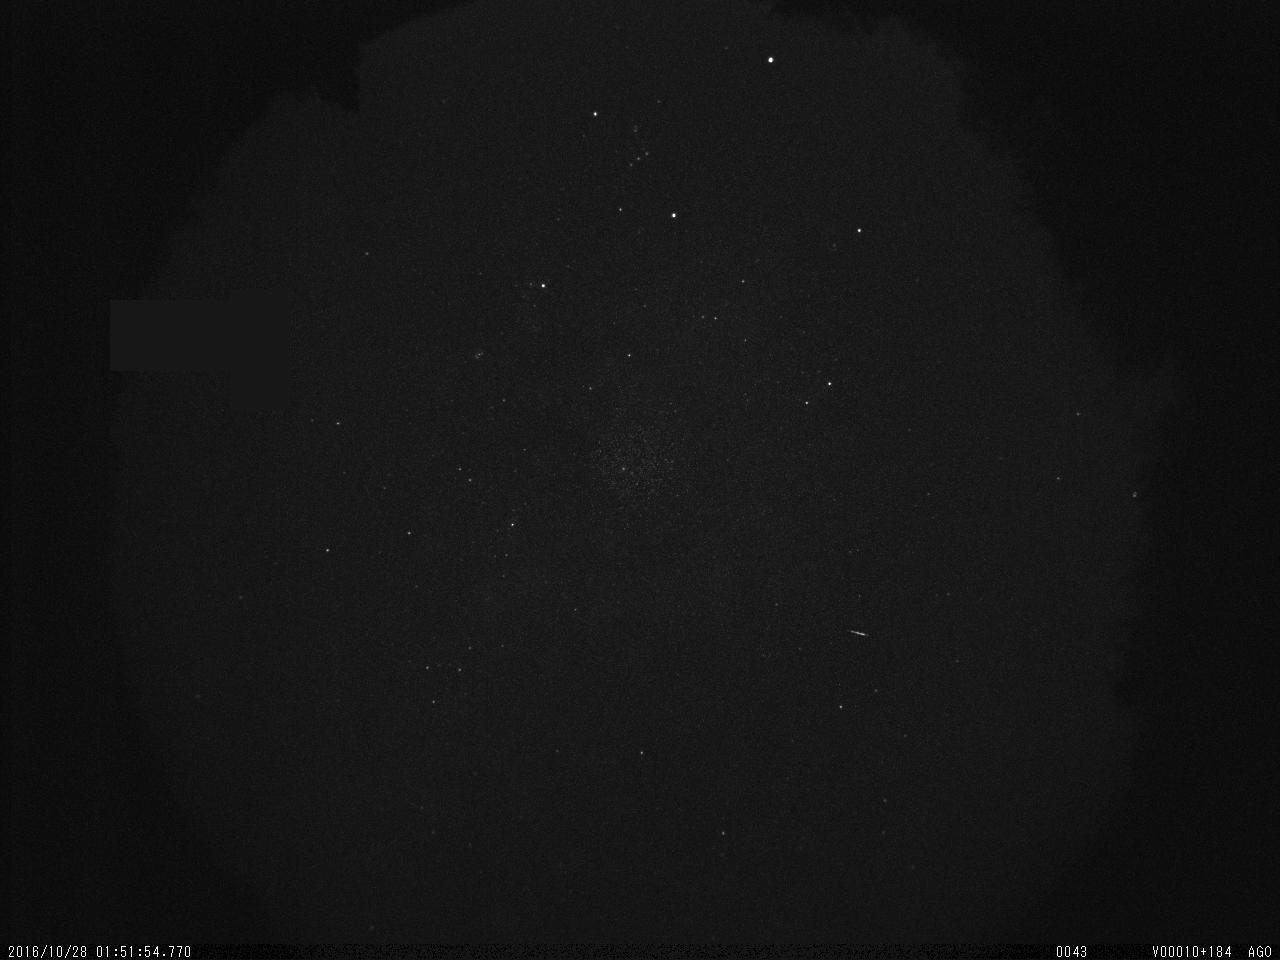meteor: (842, 615, 876, 650)
